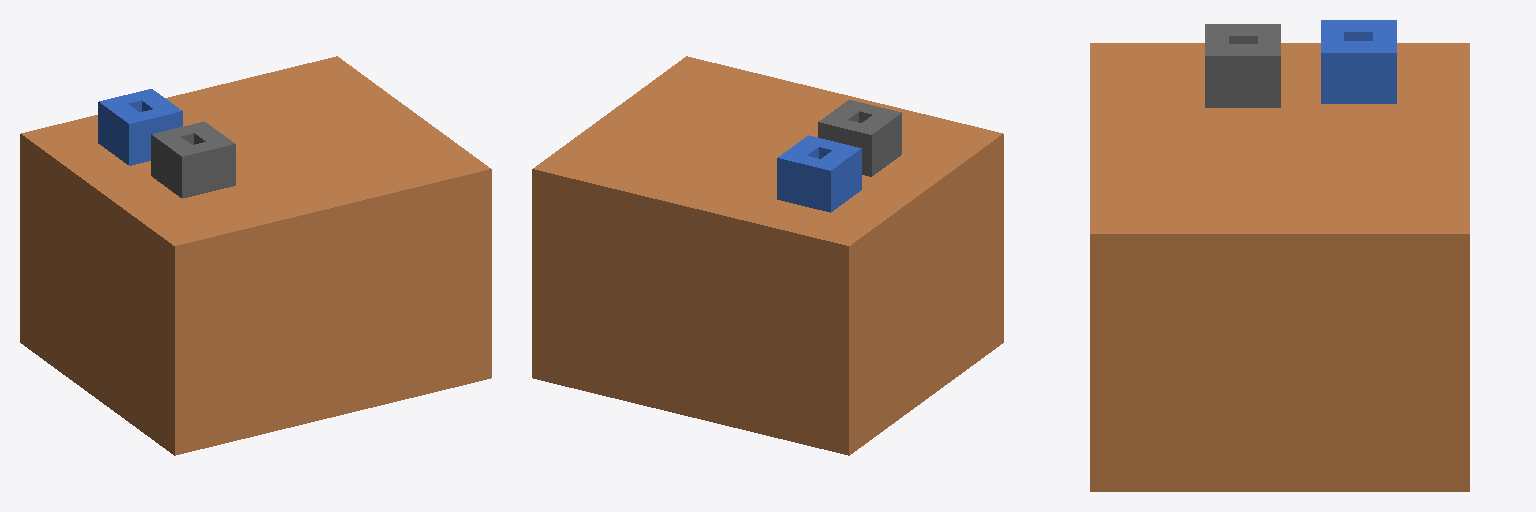
URDF robot description (peg_in_hole_fixtured_scene_0039_peg0016_tol01):
<?xml version="1.0"?>
<robot name="peg_in_hole_fixtured_scene_0039_peg0016_tol01">
  <material name="wood"><color rgba="0.82 0.56 0.35 1.0"/></material>
  <material name="start_fix"><color rgba="0.30 0.50 0.85 1.0"/></material>
  <material name="goal_fix"><color rgba="0.4706 0.4706 0.4706 1.0"/></material>
  <link name="box">
    <visual>
      <origin xyz="0.000000 0.000000 0.000000" rpy="0 0 0"/>
      <geometry><box size="0.475000 0.400000 0.300000"/></geometry>
      <material name="wood"/>
    </visual>
    <collision>
      <origin xyz="0.000000 0.000000 0.000000" rpy="0 0 0"/>
      <geometry><box size="0.475000 0.400000 0.300000"/></geometry>
    </collision>
    <visual>
      <origin xyz="-0.125149 0.082847 0.155000" rpy="0 0 0"/>
      <geometry><box size="0.080000 0.080000 0.010000"/></geometry>
      <material name="start_fix"/>
    </visual>
    <collision>
      <origin xyz="-0.125149 0.082847 0.155000" rpy="0 0 0"/>
      <geometry><box size="0.080000 0.080000 0.010000"/></geometry>
    </collision>
    <visual>
      <origin xyz="-0.099899 0.082847 0.185000" rpy="0 0 0"/>
      <geometry><box size="0.029500 0.080000 0.050000"/></geometry>
      <material name="start_fix"/>
    </visual>
    <collision>
      <origin xyz="-0.099899 0.082847 0.185000" rpy="0 0 0"/>
      <geometry><box size="0.029500 0.080000 0.050000"/></geometry>
    </collision>
    <visual>
      <origin xyz="-0.150399 0.082847 0.185000" rpy="0 0 0"/>
      <geometry><box size="0.029500 0.080000 0.050000"/></geometry>
      <material name="start_fix"/>
    </visual>
    <collision>
      <origin xyz="-0.150399 0.082847 0.185000" rpy="0 0 0"/>
      <geometry><box size="0.029500 0.080000 0.050000"/></geometry>
    </collision>
    <visual>
      <origin xyz="-0.125149 0.110597 0.185000" rpy="0 0 0"/>
      <geometry><box size="0.021000 0.024500 0.050000"/></geometry>
      <material name="start_fix"/>
    </visual>
    <collision>
      <origin xyz="-0.125149 0.110597 0.185000" rpy="0 0 0"/>
      <geometry><box size="0.021000 0.024500 0.050000"/></geometry>
    </collision>
    <visual>
      <origin xyz="-0.125149 0.055097 0.185000" rpy="0 0 0"/>
      <geometry><box size="0.021000 0.024500 0.050000"/></geometry>
      <material name="start_fix"/>
    </visual>
    <collision>
      <origin xyz="-0.125149 0.055097 0.185000" rpy="0 0 0"/>
      <geometry><box size="0.021000 0.024500 0.050000"/></geometry>
    </collision>
    <visual>
      <origin xyz="-0.116063 -0.038554 0.155000" rpy="0 0 0"/>
      <geometry><box size="0.080000 0.080000 0.010000"/></geometry>
      <material name="goal_fix"/>
    </visual>
    <collision>
      <origin xyz="-0.116063 -0.038554 0.155000" rpy="0 0 0"/>
      <geometry><box size="0.080000 0.080000 0.010000"/></geometry>
    </collision>
    <visual>
      <origin xyz="-0.090913 -0.038554 0.185000" rpy="0 0 0"/>
      <geometry><box size="0.029699 0.080000 0.050000"/></geometry>
      <material name="goal_fix"/>
    </visual>
    <collision>
      <origin xyz="-0.090913 -0.038554 0.185000" rpy="0 0 0"/>
      <geometry><box size="0.029699 0.080000 0.050000"/></geometry>
    </collision>
    <visual>
      <origin xyz="-0.141214 -0.038554 0.185000" rpy="0 0 0"/>
      <geometry><box size="0.029699 0.080000 0.050000"/></geometry>
      <material name="goal_fix"/>
    </visual>
    <collision>
      <origin xyz="-0.141214 -0.038554 0.185000" rpy="0 0 0"/>
      <geometry><box size="0.029699 0.080000 0.050000"/></geometry>
    </collision>
    <visual>
      <origin xyz="-0.116063 -0.010904 0.185000" rpy="0 0 0"/>
      <geometry><box size="0.020602 0.024699 0.050000"/></geometry>
      <material name="goal_fix"/>
    </visual>
    <collision>
      <origin xyz="-0.116063 -0.010904 0.185000" rpy="0 0 0"/>
      <geometry><box size="0.020602 0.024699 0.050000"/></geometry>
    </collision>
    <visual>
      <origin xyz="-0.116063 -0.066205 0.185000" rpy="0 0 0"/>
      <geometry><box size="0.020602 0.024699 0.050000"/></geometry>
      <material name="goal_fix"/>
    </visual>
    <collision>
      <origin xyz="-0.116063 -0.066205 0.185000" rpy="0 0 0"/>
      <geometry><box size="0.020602 0.024699 0.050000"/></geometry>
    </collision>
    <inertial>
      <mass value="500"/>
      <friction value="1.0"/>
      <inertia ixx="1000.0" ixy="0.0" ixz="0.0" iyy="1000.0" iyz="0.0" izz="1000.0"/>
    </inertial>
  </link>
</robot>

--- What the picture shows (computed from the rendered views, not written in the file) ---
The picture shows the robot from 3 angles, left to right: view 1: azimuth 30°, elevation 25°; view 2: azimuth 150°, elevation 25°; view 3: azimuth 270°, elevation 25°; orthographic projection.
Model peg_in_hole_fixtured_scene_0039_peg0016_tol01 with 1 links and 0 joints (none), rooted at box, posed every joint at zero.
Links seen in each view (by area): view 1: box; view 2: box; view 3: box.
Link boxes in pixels (x1,y1,x2,y2): box: (20,56,491,455); box: (532,56,1003,455); box: (1090,20,1469,491).
Size in the robot's own frame: 0.475 by 0.4 by 0.36 metres.
Geometry: primitives only (box / cylinder / sphere), no mesh files.
